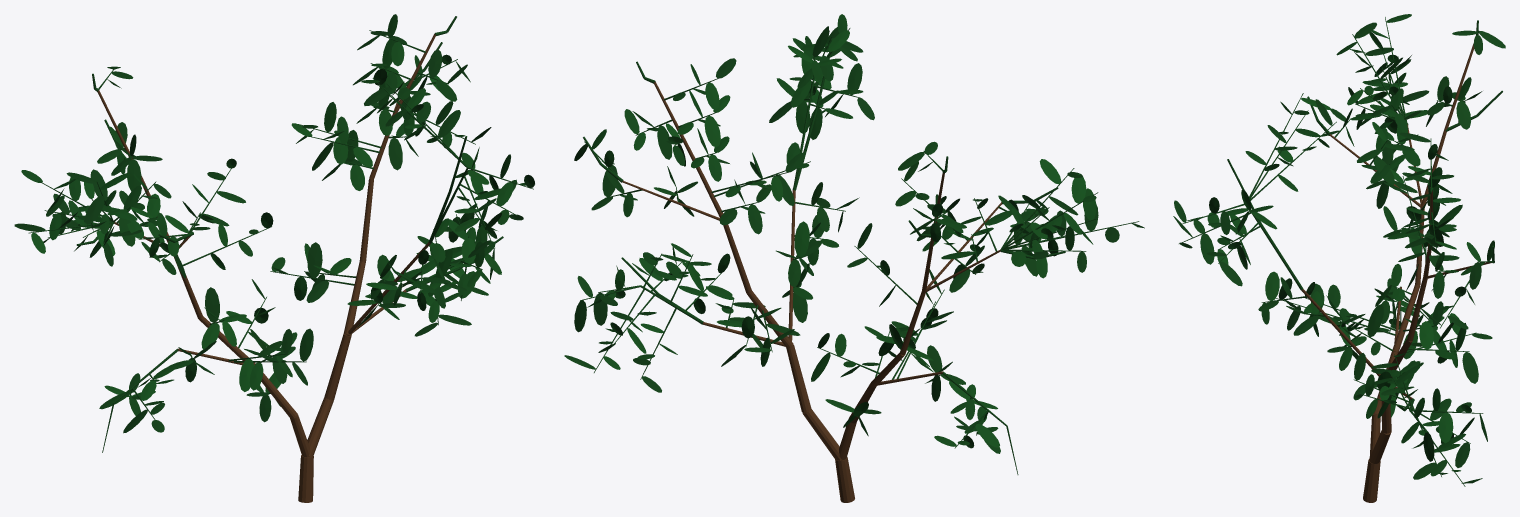
Rendered from static.dae.
3 views of the same model, side by side, from view 1: azimuth 30°, elevation 25°; view 2: azimuth 150°, elevation 25°; view 3: azimuth 270°, elevation 25° (orthographic). The views are drawn at different scales.
Visible parts, largest first — view 1: tree; view 2: tree; view 3: tree.
Part boxes in pixels (x1,y1,x2,y2): tree: (14, 14, 534, 502); tree: (564, 14, 1144, 502); tree: (1173, 14, 1505, 502).
Bounding box in the file's own units: 1.83 × 1.08 × 1.51.
